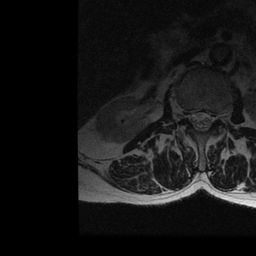CCS_normal: (197, 102, 205, 138)
LFS_normal: (213, 104, 221, 128)
LLS_normal: (205, 103, 213, 134)
RFS_normal: (181, 99, 189, 125)
RLS_normal: (189, 102, 197, 133)
